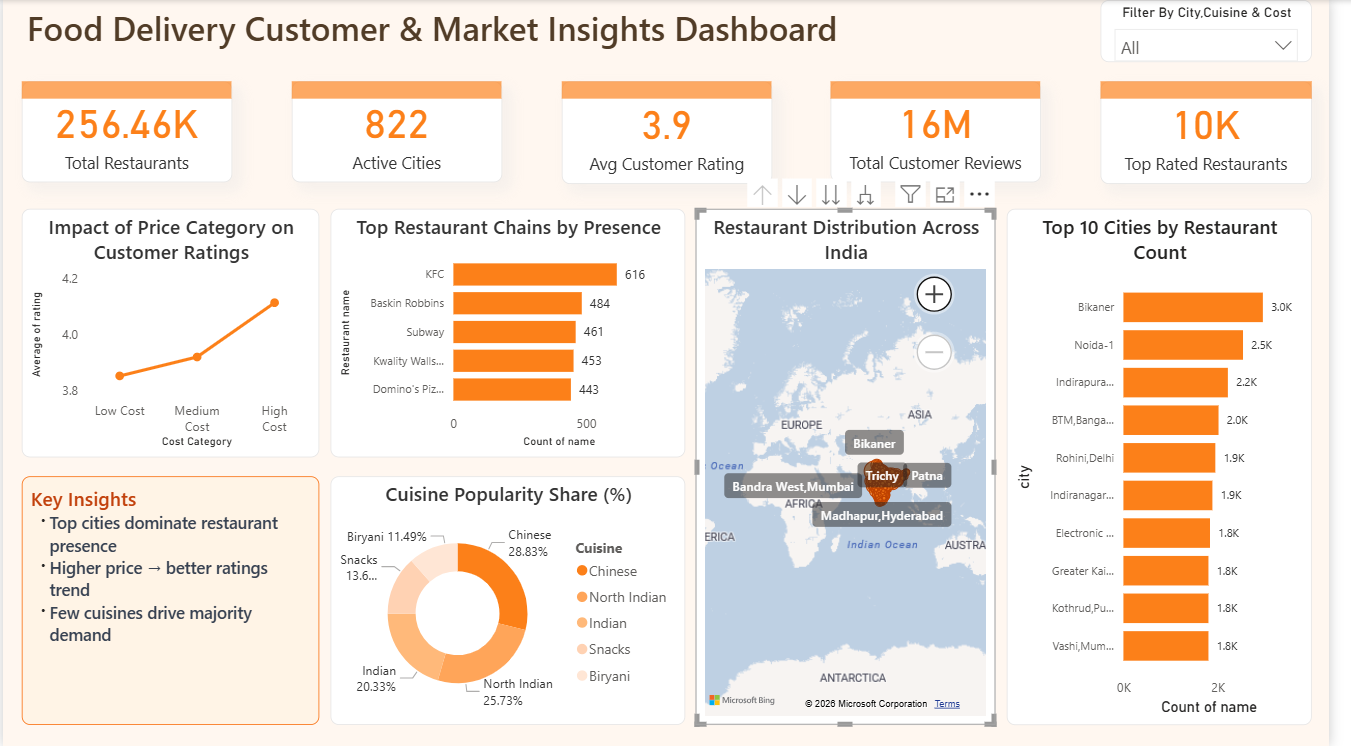

What the dashboard file says about the page in this screenshot:
{"tool":"powerbi","page":{"name":"Page 1","canvas":[1280,720],"ordinal":0},"visuals":[{"type":"textbox","box":[18.1,0,980.8,78.4],"z":0},{"type":"card","fields":{"Values":["CountNonNull(swiggy.name)"]},"box":[18.1,78.4,203,97.7],"z":1000},{"type":"card","fields":{"Values":["Count(swiggy.city)"]},"box":[278.4,78.4,203,97.7],"z":2000},{"type":"card","fields":{"Values":["Avg(swiggy.rating)"]},"box":[538.7,78.4,203,98.9],"z":3000},{"type":"card","fields":{"Values":["Sum(swiggy.rating_count)"]},"box":[799,78.4,203,97.7],"z":4000},{"type":"card","fields":{"Values":["Max(swiggy.rating_count)"]},"box":[1059.3,78.4,203.9,98.9],"z":5000},{"type":"clusteredBarChart","title":"Top 10 Cities by Restaurant Count","fields":{"Category":["swiggy.city"],"Y":["CountNonNull(swiggy.name)"]},"box":[968.8,201.5,294.4,498.3],"z":6000},{"type":"donutChart","title":"Cuisine Popularity Share (%)","fields":{"Y":["CountNonNull(swiggy.name)"],"Category":["swiggy.Cuisine"]},"box":[316.1,459.7,342.6,240.1],"z":7000},{"type":"clusteredBarChart","title":"Top Restaurant Chains by Presence","fields":{"Category":["swiggy.name"],"Y":["CountNonNull(swiggy.name)"]},"box":[316.1,201.5,342.6,240.1],"z":8000},{"type":"map","title":"Restaurant Distribution Across India","fields":{"Category":["swiggy.city","swiggy.Country"],"Size":["CountNonNull(swiggy.name)"]},"box":[668.4,201.5,289.5,498.3],"z":9000},{"type":"lineChart","title":"Impact of Price Category on Customer Ratings","fields":{"Category":["swiggy.Cost Category"],"Y":["Avg(swiggy.rating)"]},"box":[18.1,201.5,287.1,240.1],"z":10000},{"type":"shape","box":[668.4,201.5,289.5,38.6],"z":11000},{"type":"shape","box":[18.1,78.4,202.7,16.9],"z":12000},{"type":"shape","box":[278.7,78.4,202.7,16.9],"z":13000},{"type":"shape","box":[539.3,78.4,202.7,16.9],"z":14000},{"type":"shape","box":[798.7,78.4,202.7,16.9],"z":15000},{"type":"shape","box":[1059.3,78.4,203.9,16.9],"z":16000},{"type":"slicer","title":"Filter By City,Cuisine & Cost","fields":{"Values":["swiggy.city","swiggy.Cuisine","swiggy.cost"]},"box":[1059.3,0,203.9,60.3],"z":17000},{"type":"textbox","box":[18.1,459.7,287.1,240.1],"z":17001}]}

Visuals, with their boxes in screenshot pixels (x1, y1, x2, y2), scaled from the page's 1280x720 canvas onto the 1351x746 screenshot:
textbox: select_region(19, 0, 1054, 81)
card - CountNonNull(swiggy.name): select_region(19, 81, 233, 182)
card - Count(swiggy.city): select_region(294, 81, 508, 182)
card - Avg(swiggy.rating): select_region(569, 81, 783, 184)
card - Sum(swiggy.rating_count): select_region(843, 81, 1058, 182)
card - Max(swiggy.rating_count): select_region(1118, 81, 1333, 184)
"Top 10 Cities by Restaurant Count" clusteredBarChart: select_region(1023, 209, 1333, 725)
"Cuisine Popularity Share (%)" donutChart: select_region(334, 476, 695, 725)
"Top Restaurant Chains by Presence" clusteredBarChart: select_region(334, 209, 695, 458)
"Restaurant Distribution Across India" map: select_region(705, 209, 1011, 725)
"Impact of Price Category on Customer Ratings" lineChart: select_region(19, 209, 322, 458)
shape: select_region(705, 209, 1011, 249)
shape: select_region(19, 81, 233, 99)
shape: select_region(294, 81, 508, 99)
shape: select_region(569, 81, 783, 99)
shape: select_region(843, 81, 1057, 99)
shape: select_region(1118, 81, 1333, 99)
"Filter By City,Cuisine & Cost" slicer: select_region(1118, 0, 1333, 62)
textbox: select_region(19, 476, 322, 725)
